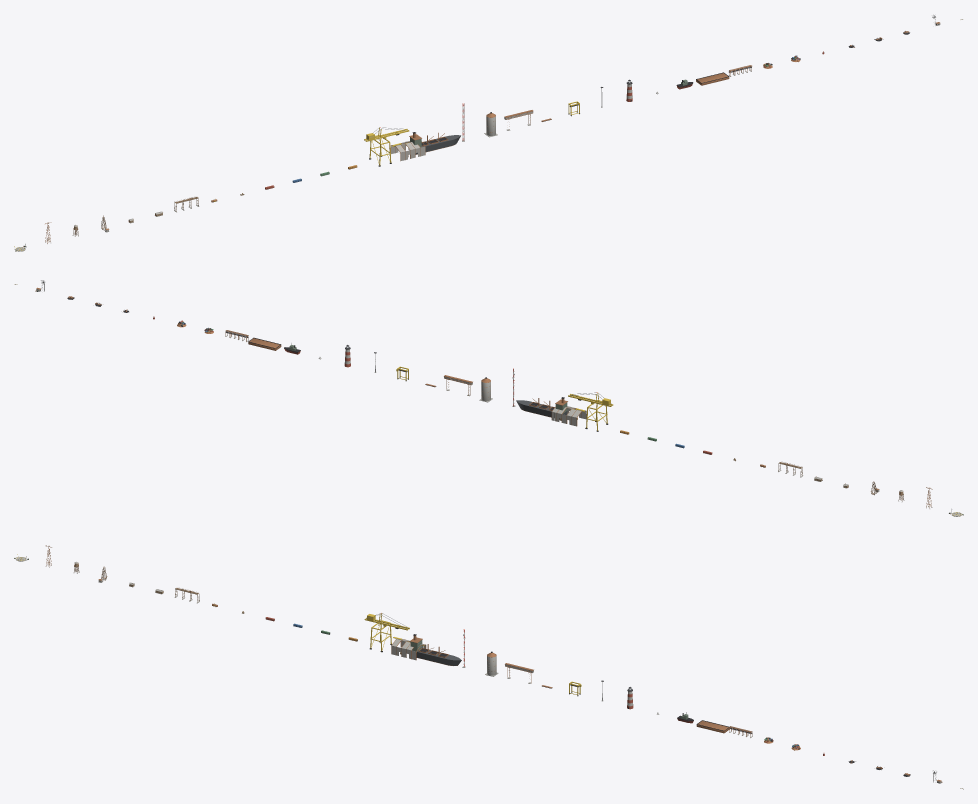
Rendered from props.glb.
3 renders of one model, top to bottom at view 1: azimuth 30°, elevation 25°; view 2: azimuth 150°, elevation 25°; view 3: azimuth 330°, elevation 25°, orthographic.
Visible parts, largest first — view 1: ship_hulk, gantry_crane; view 2: ship_hulk, gantry_crane; view 3: ship_hulk, gantry_crane.
Boxes of the visible parts, x1=… form: ship_hulk: x1=409, y1=132, x2=460, y2=154; gantry_crane: x1=364, y1=127, x2=409, y2=166; ship_hulk: x1=516, y1=397, x2=567, y2=418; gantry_crane: x1=568, y1=392, x2=613, y2=431; ship_hulk: x1=410, y1=634, x2=461, y2=665; gantry_crane: x1=364, y1=613, x2=409, y2=652.
Size of the model in its own units: 1371 by 53.35 by 25.6.
